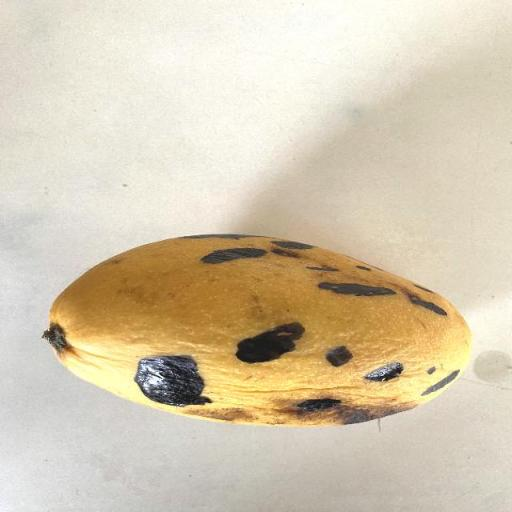mango-overripe: (21, 212, 489, 443)
